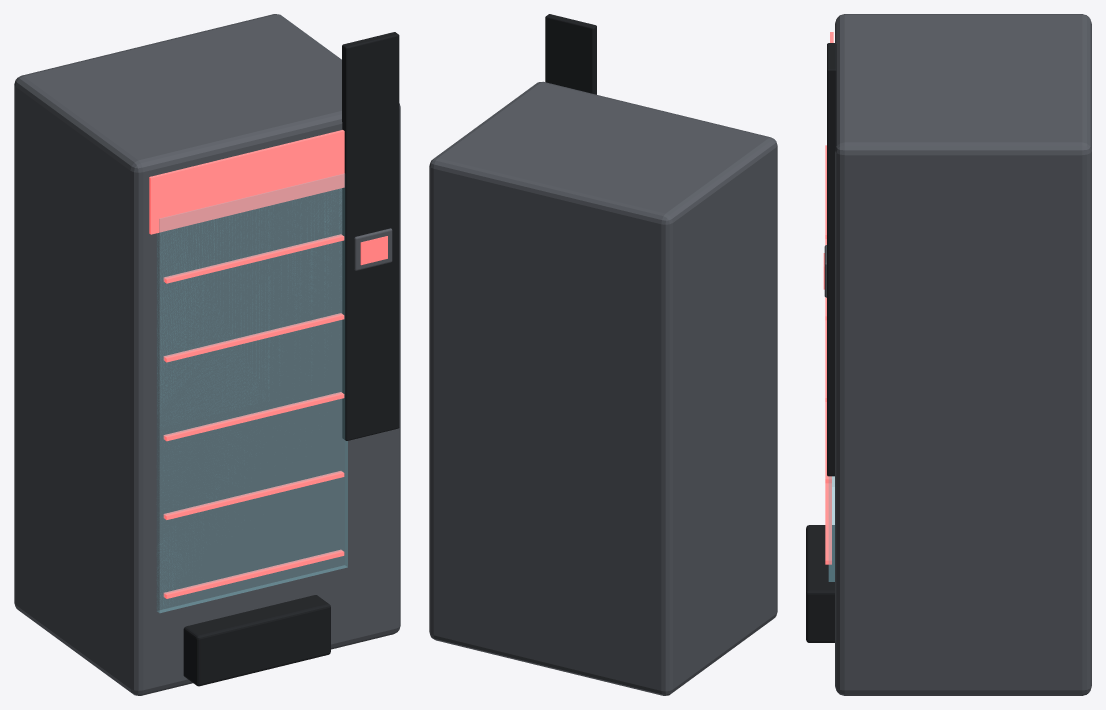
The model's file is vending_machine_noodle_dispenser.glb.
3 views of the same model, side by side, from view 1: azimuth 30°, elevation 25°; view 2: azimuth 150°, elevation 25°; view 3: azimuth 270°, elevation 25° (orthographic). The views are drawn at different scales.
Visible parts, largest first — view 1: GD_vending_machine_noodle_dispenser__m0, GD_vending_machine_noodle_dispenser__m1, GD_vending_machine_noodle_dispenser__m8, GD_vending_machine_noodle_dispenser__m7, GD_vending_machine_noodle_dispenser__m9; view 2: GD_vending_machine_noodle_dispenser__m0, GD_vending_machine_noodle_dispenser__m8; view 3: GD_vending_machine_noodle_dispenser__m0, GD_vending_machine_noodle_dispenser__m8, GD_vending_machine_noodle_dispenser__m7, GD_vending_machine_noodle_dispenser__m1.
Boxes of the visible parts, x1,y1,x2,y2 form: GD_vending_machine_noodle_dispenser__m0: (14, 14, 400, 695); GD_vending_machine_noodle_dispenser__m1: (157, 173, 347, 612); GD_vending_machine_noodle_dispenser__m8: (183, 32, 399, 686); GD_vending_machine_noodle_dispenser__m7: (149, 130, 344, 598); GD_vending_machine_noodle_dispenser__m9: (360, 236, 387, 265); GD_vending_machine_noodle_dispenser__m0: (429, 81, 777, 695); GD_vending_machine_noodle_dispenser__m8: (545, 14, 596, 94); GD_vending_machine_noodle_dispenser__m0: (824, 14, 1091, 695); GD_vending_machine_noodle_dispenser__m8: (806, 43, 836, 642); GD_vending_machine_noodle_dispenser__m7: (825, 32, 833, 564); GD_vending_machine_noodle_dispenser__m1: (828, 476, 834, 581).
Size of the model in its own units: 1 by 2.15 by 0.89.
